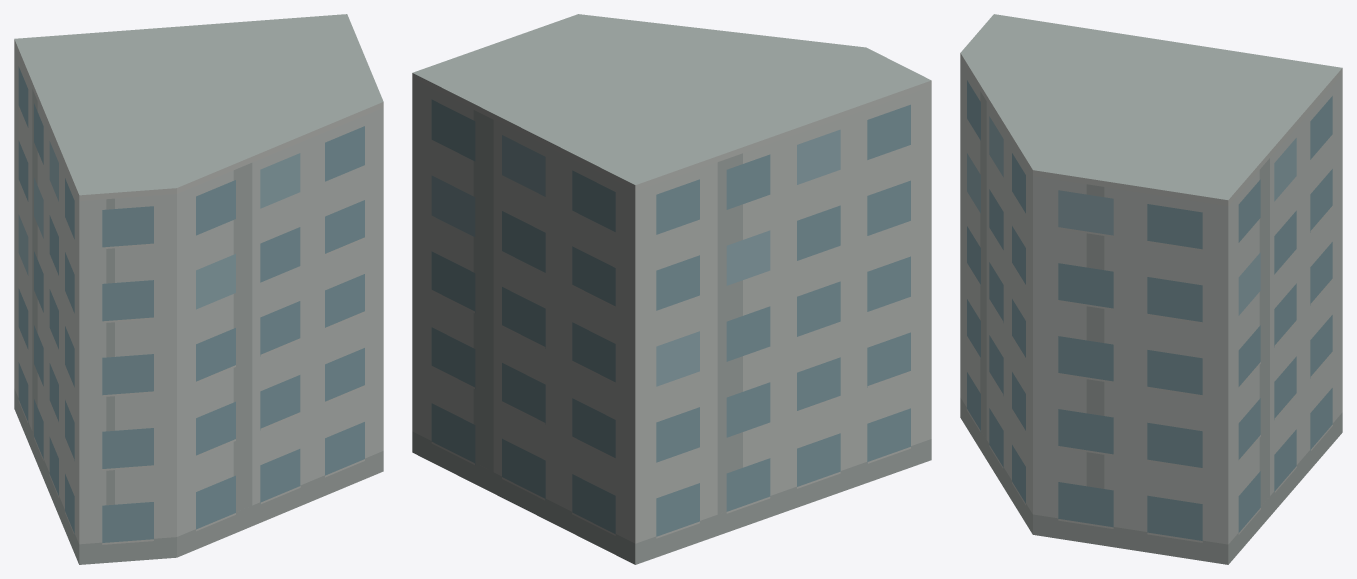
The model's file is residential-0444a31e-2080-4c3b-bc1e-f7184e5c7545.glb.
3 views of the same model, side by side, from view 1: azimuth 30°, elevation 25°; view 2: azimuth 150°, elevation 25°; view 3: azimuth 270°, elevation 25° (orthographic). The views are drawn at different scales.
Parts seen in each view (by area): view 1: residential-0444a31e-2080-4c3b-bc1e-f7184e5c7545.tmp; view 2: residential-0444a31e-2080-4c3b-bc1e-f7184e5c7545.tmp; view 3: residential-0444a31e-2080-4c3b-bc1e-f7184e5c7545.tmp.
Part boxes in pixels (x1,y1,x2,y2): residential-0444a31e-2080-4c3b-bc1e-f7184e5c7545.tmp: [14, 14, 383, 564]; residential-0444a31e-2080-4c3b-bc1e-f7184e5c7545.tmp: [412, 14, 931, 564]; residential-0444a31e-2080-4c3b-bc1e-f7184e5c7545.tmp: [960, 14, 1342, 564].
Bounding box in the file's own units: 16.71 × 15.25 × 14.49.
